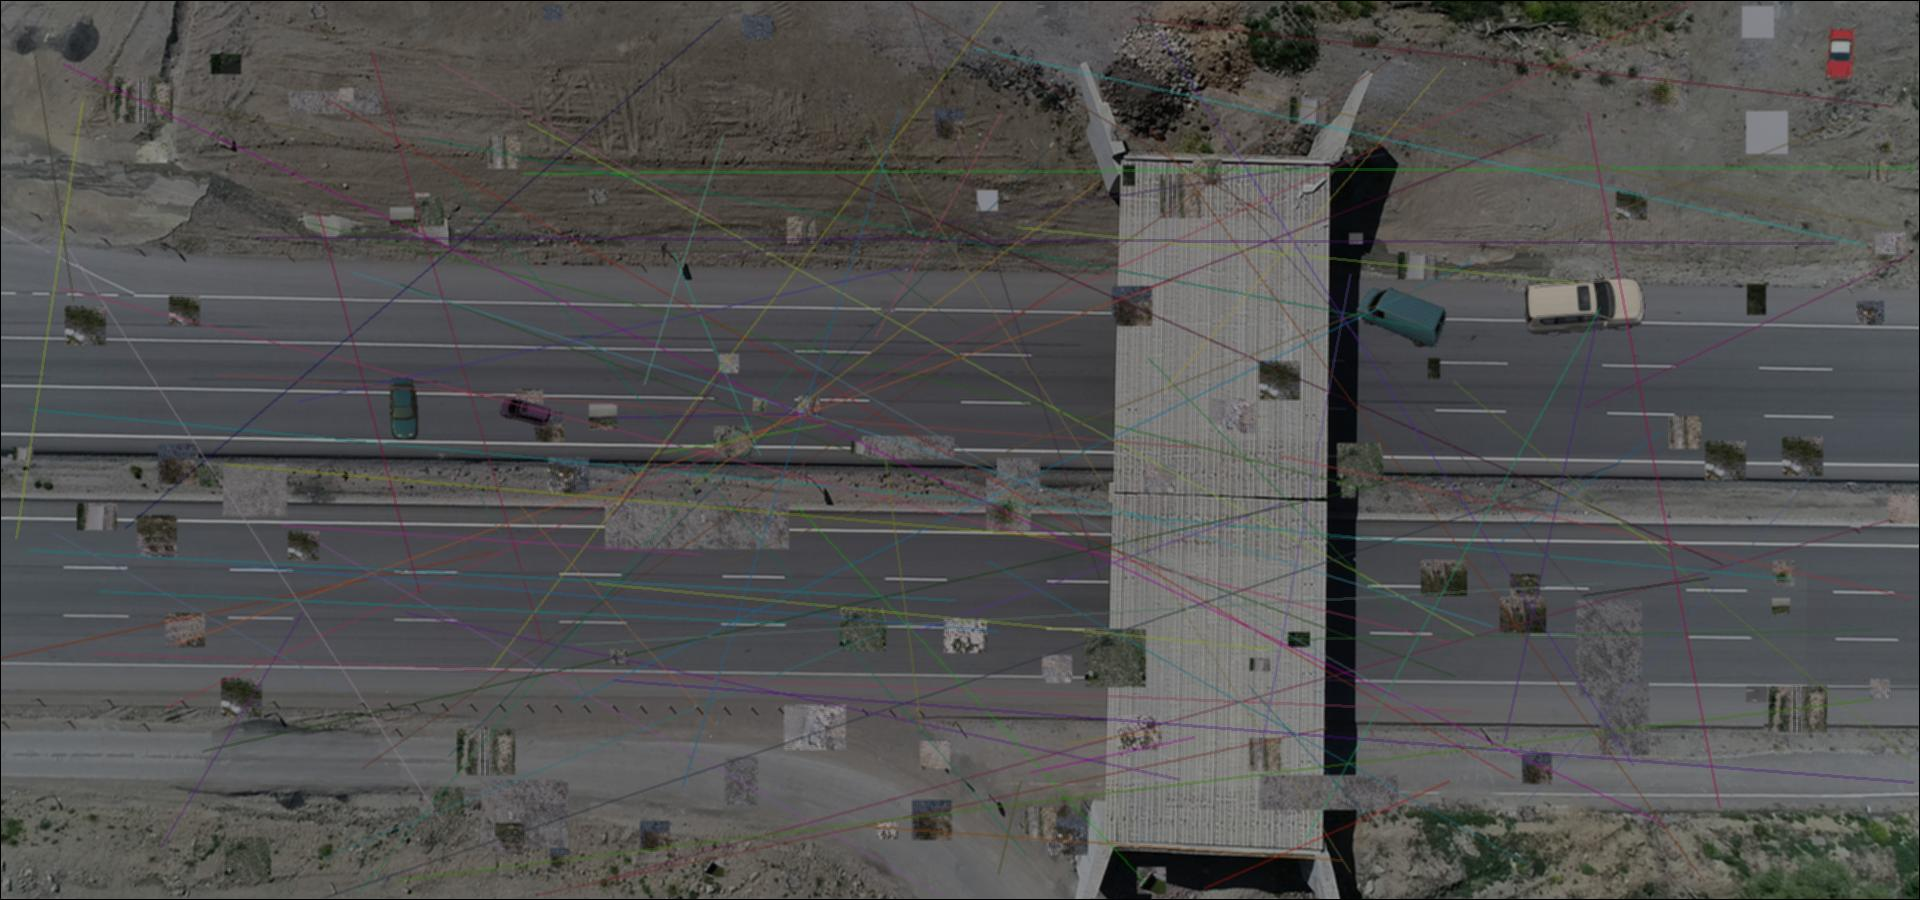arac: (1523, 274, 1648, 336), (1357, 287, 1447, 347), (500, 396, 552, 431), (1824, 26, 1854, 84), (389, 378, 418, 440)
